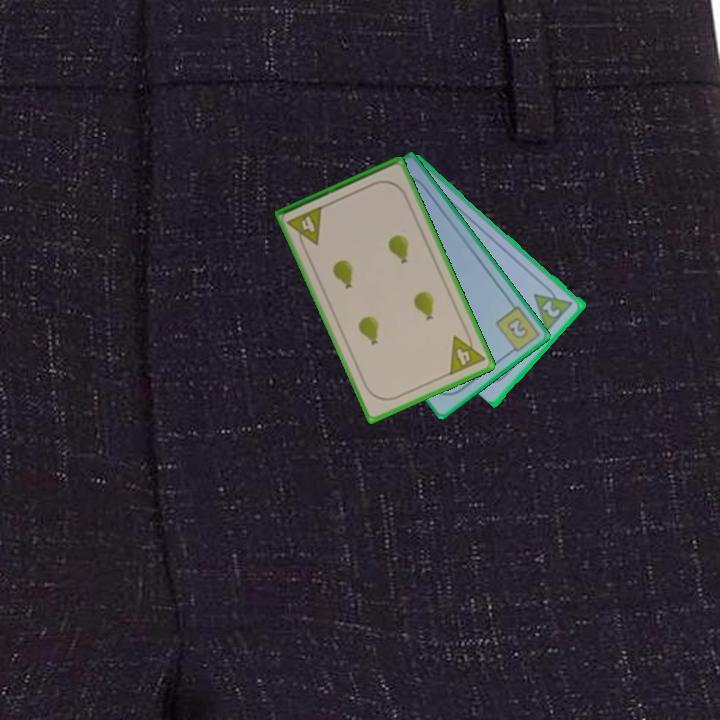2b: (492, 302, 542, 358)
2p: (530, 280, 577, 333)
4p: (446, 327, 488, 378), (284, 202, 326, 252)
